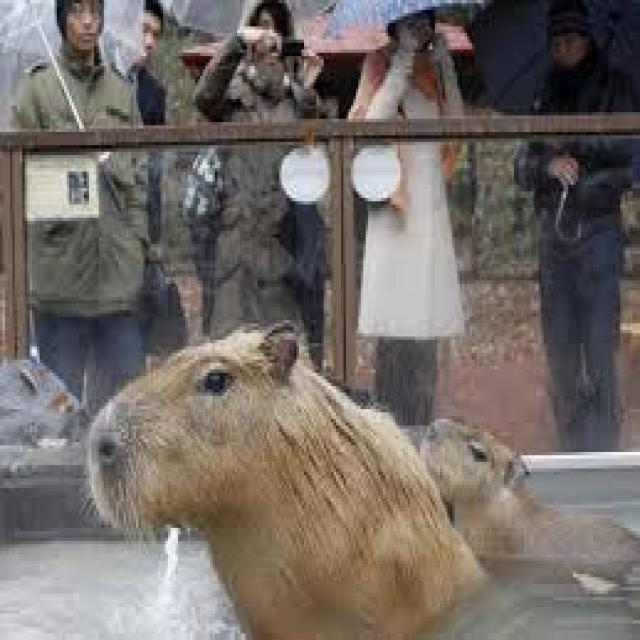capy: (83, 320, 481, 640), (421, 409, 640, 568)
